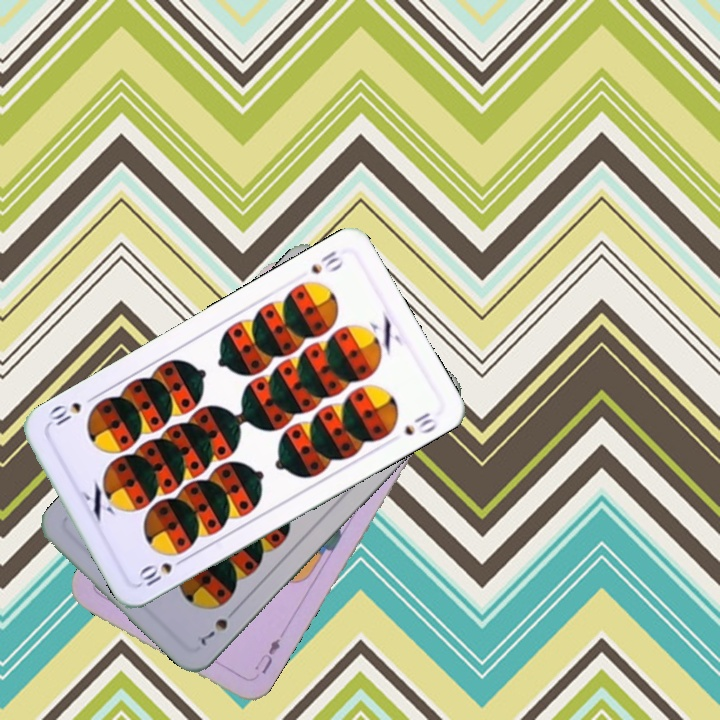EU: (250, 634, 283, 677)
S10: (135, 553, 190, 590), (306, 246, 346, 277)
S7: (196, 604, 240, 647)
